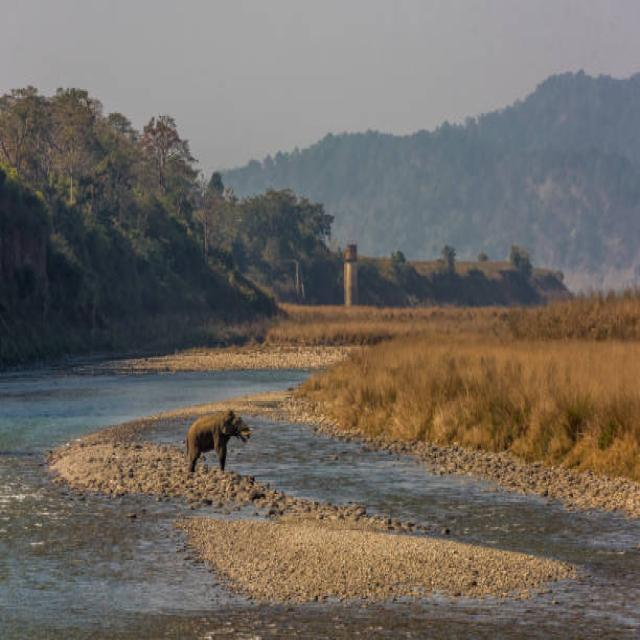Elephant: (182, 405, 256, 481)
